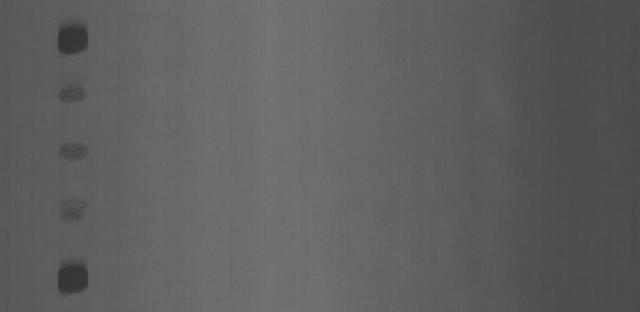oil_spot: (53, 17, 100, 62), (48, 259, 98, 301), (53, 193, 95, 232), (52, 80, 101, 111), (52, 139, 95, 166)
